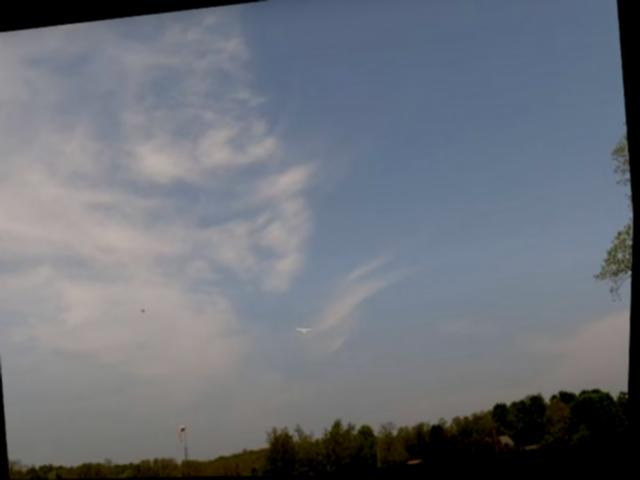iha: (296, 324, 316, 337)
